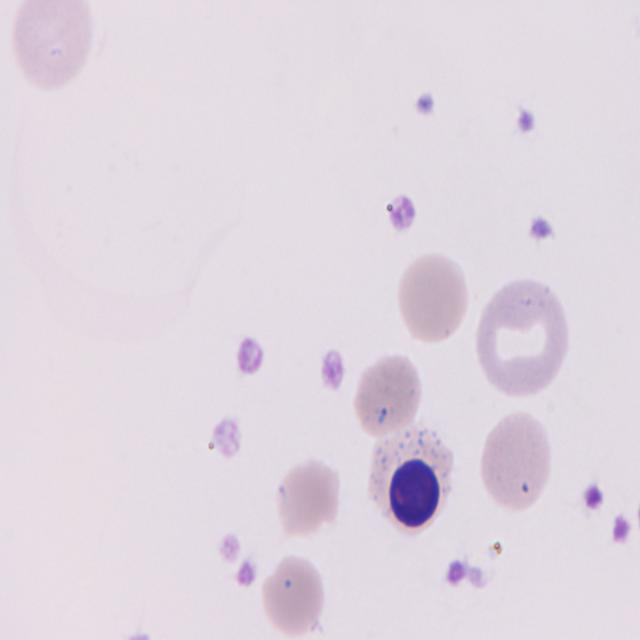RBC: (473, 280, 573, 400), (476, 408, 558, 513), (9, 1, 96, 95), (350, 350, 426, 448)
Spherocyte: (392, 244, 473, 354)
WBC: (366, 422, 454, 538)
